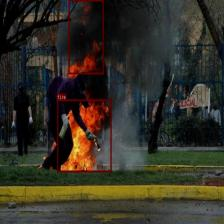fire: (57, 99, 111, 172), (68, 0, 104, 74)
